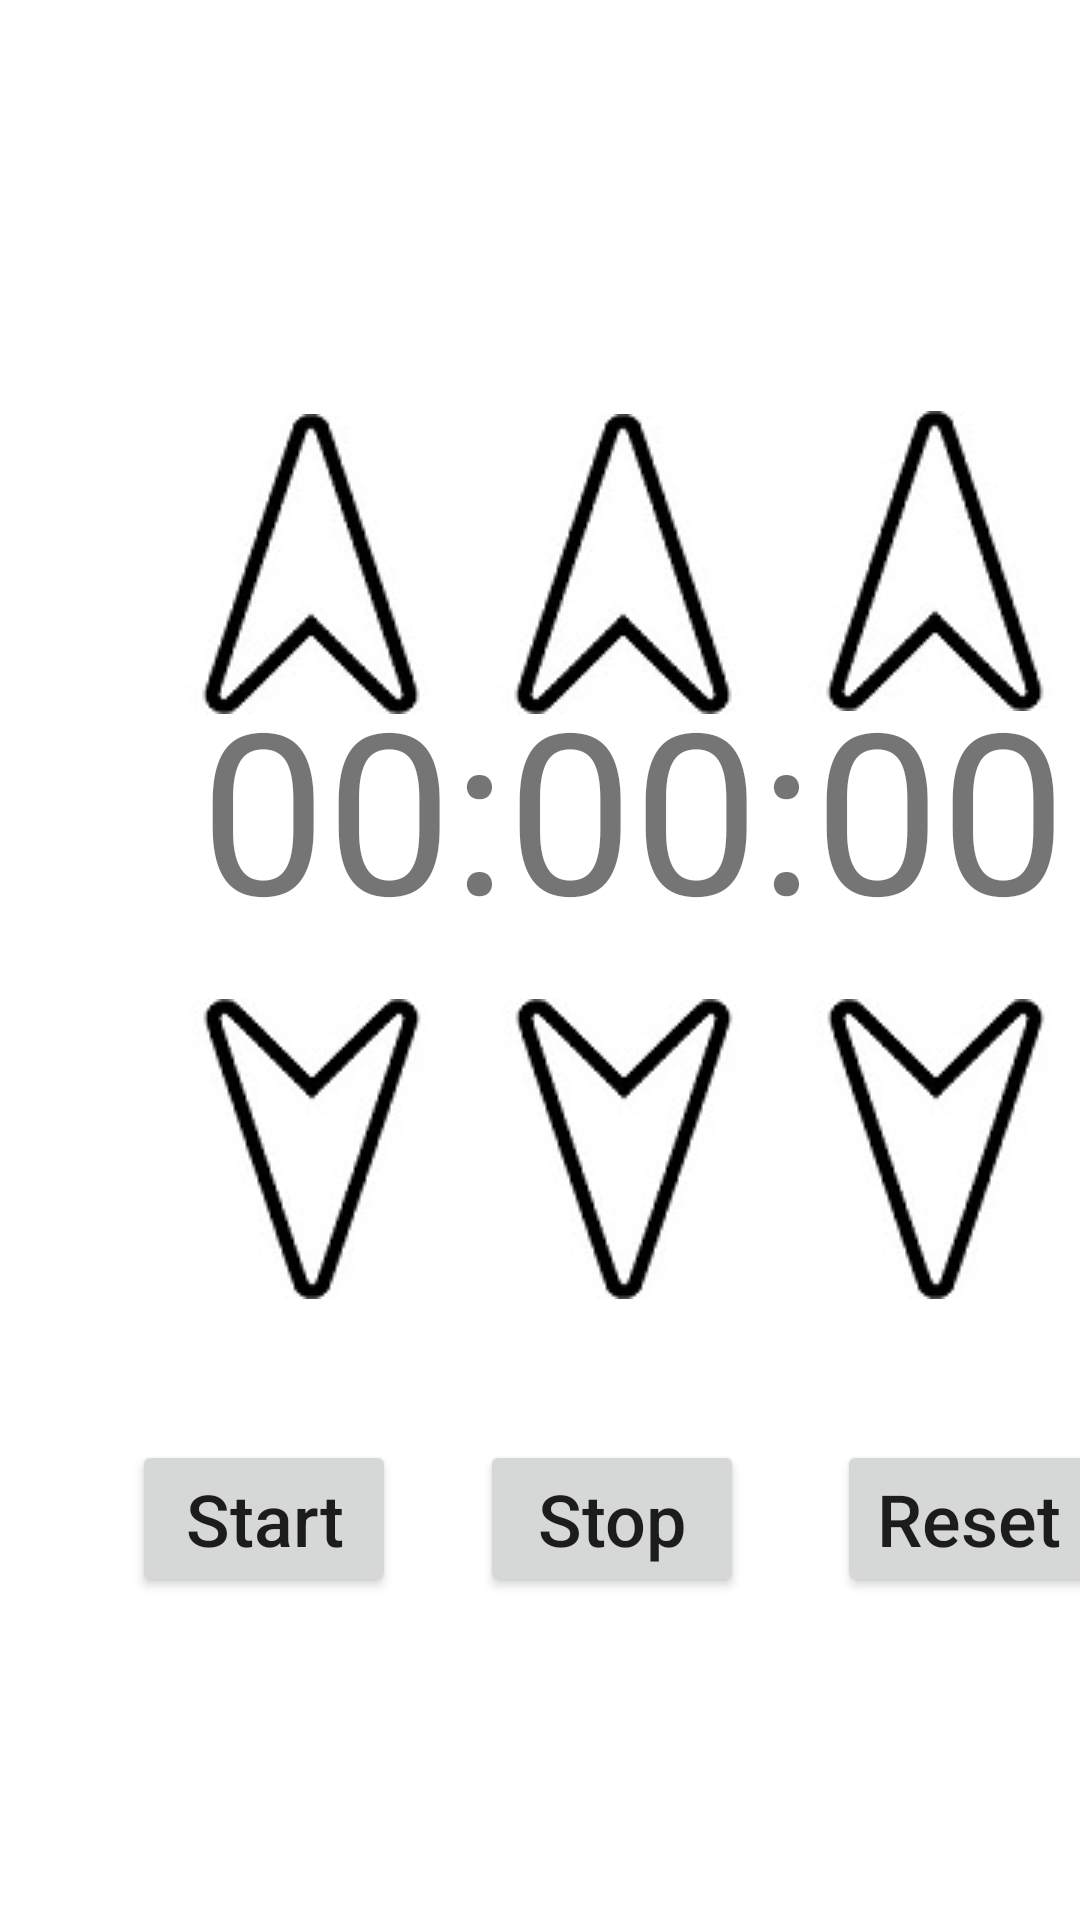

Locate icon controls on the screen. Image size 1080*1920, boxes as (x1, y1, x2, y2).
Arrow facing downward: (203, 999, 421, 1299), (515, 999, 733, 1299), (827, 999, 1045, 1299)
Arrow facing upward: (826, 411, 1044, 711), (202, 414, 420, 714), (514, 414, 732, 714)
